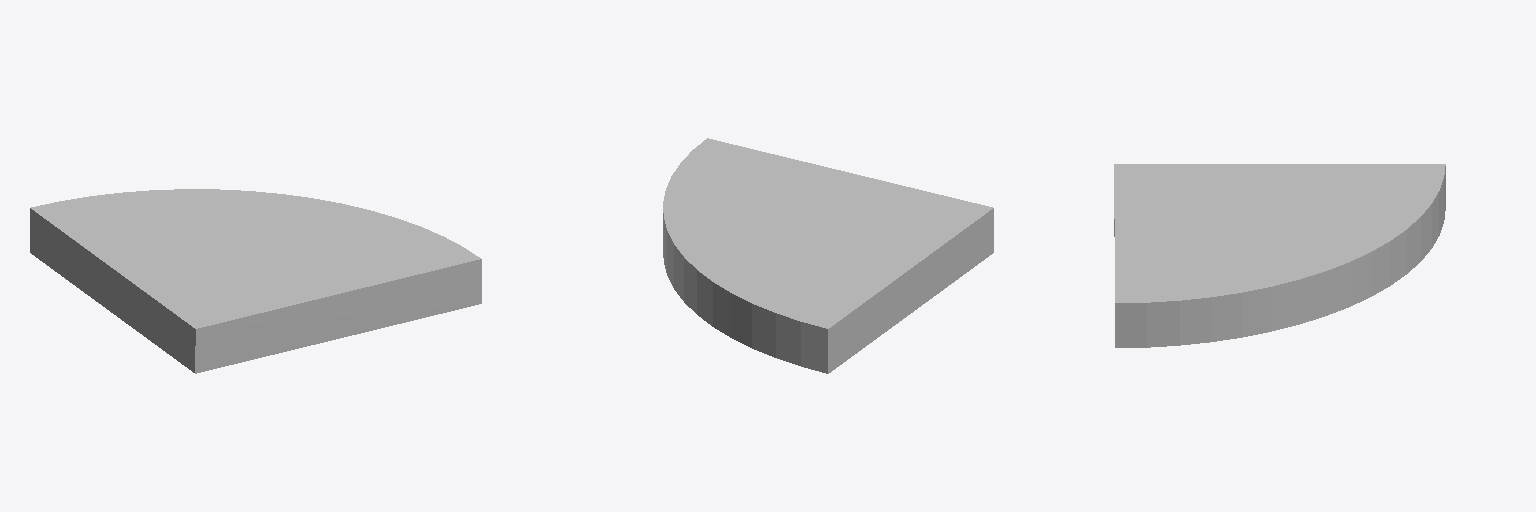
File: roulette_base.obj
The picture shows the model from 3 angles: view 1: azimuth 30°, elevation 25°; view 2: azimuth 150°, elevation 25°; view 3: azimuth 270°, elevation 25°; orthographic projection.
Visible parts, largest first — view 1: Cylinder; view 2: Cylinder; view 3: Cylinder.
Boxes of the visible parts, x1,y1,x2,y2 form: Cylinder: [30, 189, 481, 373]; Cylinder: [663, 138, 993, 373]; Cylinder: [1114, 164, 1445, 347].
Size of the model in its own units: 1 by 0.15 by 1.